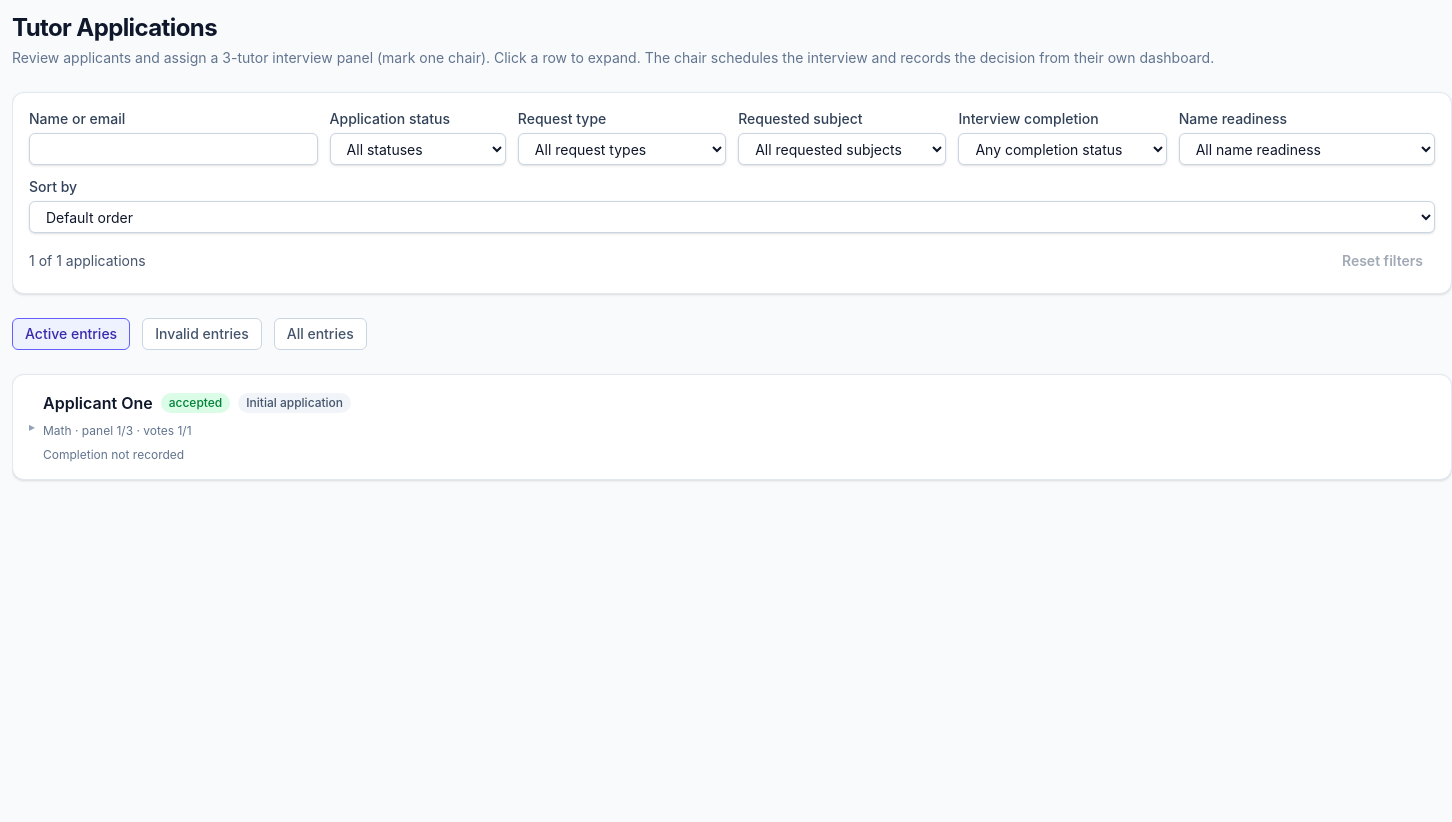
Scenario: renders projected application summaries for read-only VIEWER access
Click the button "Applicant One" at (98, 403), box x1=29 y1=391 x2=1423 y2=463
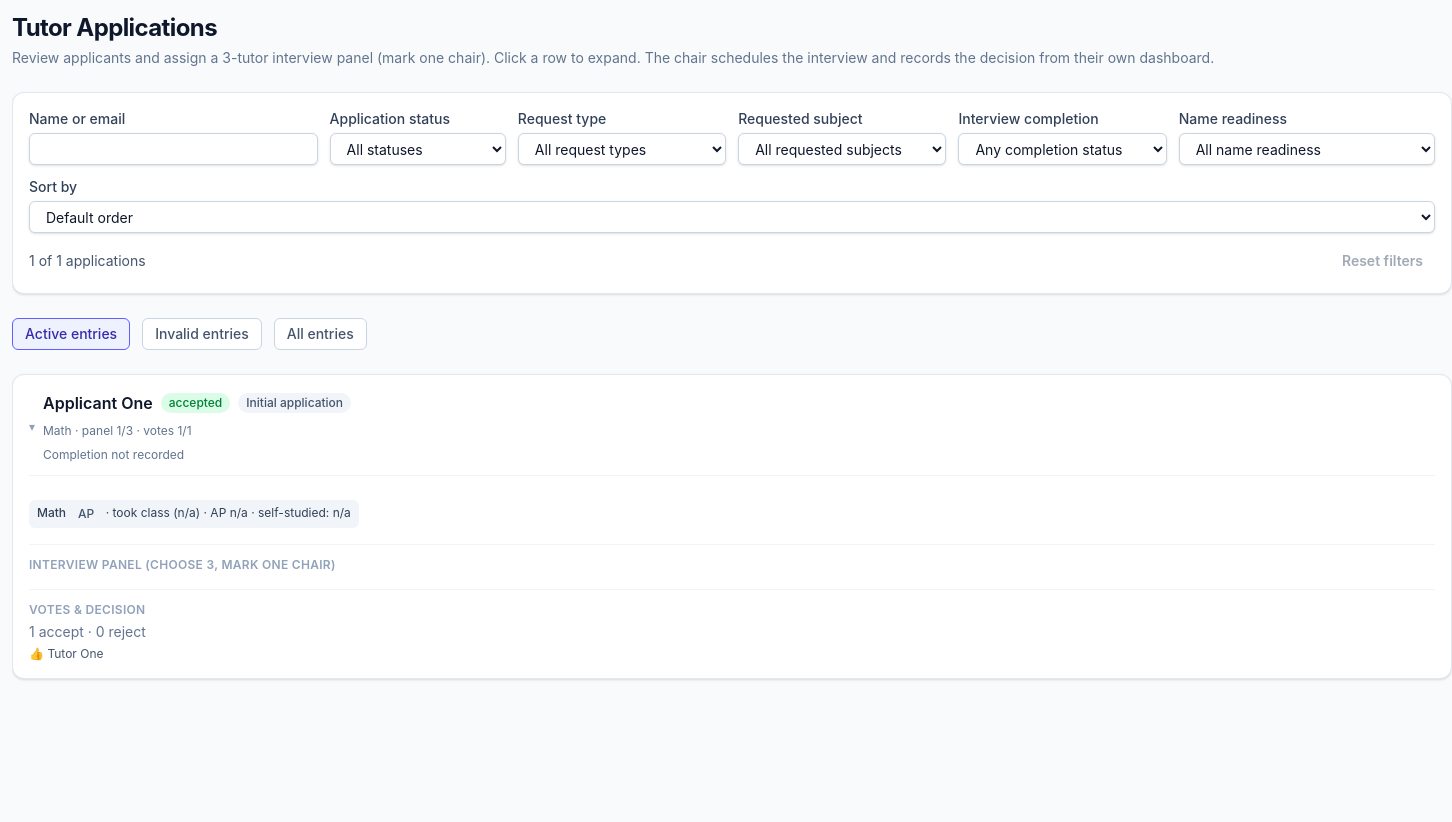
Result: the list item "👍 Tutor One" is shown at x1=29 y1=646 x2=104 y2=661
